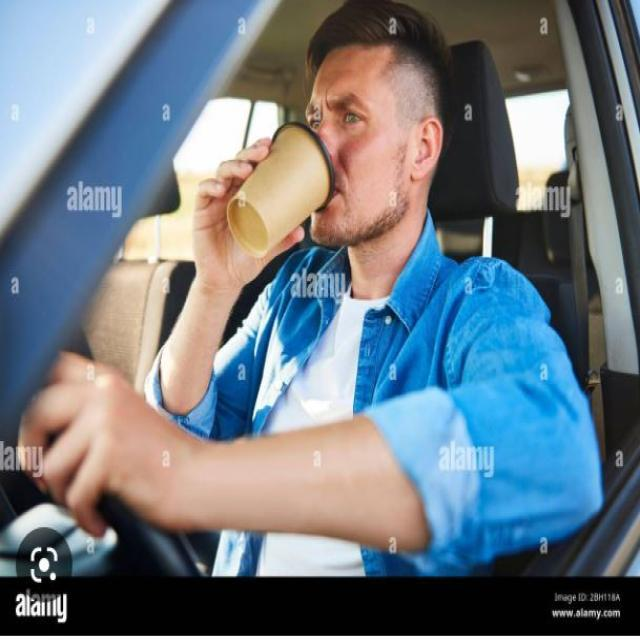Seatbelt: (224, 120, 336, 262)
